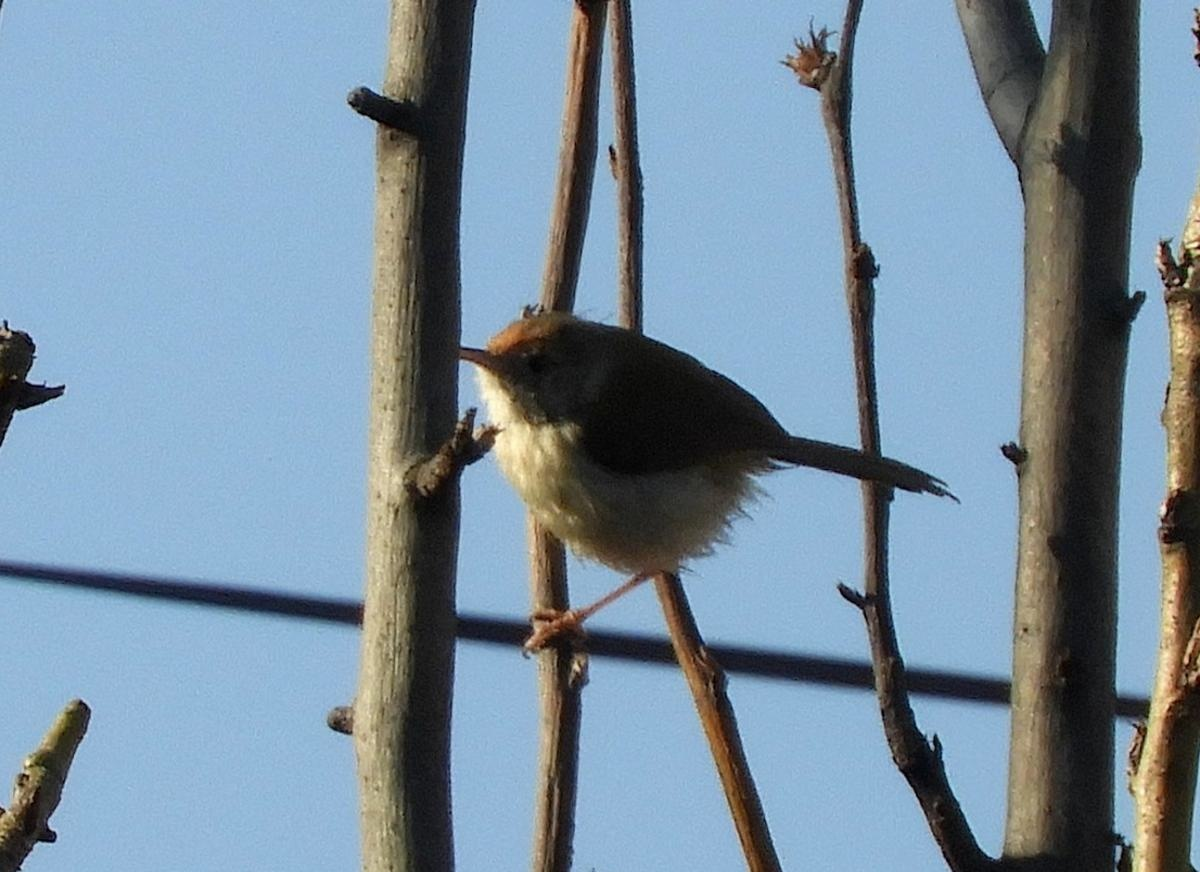tailorbird: (429, 296, 921, 636)
